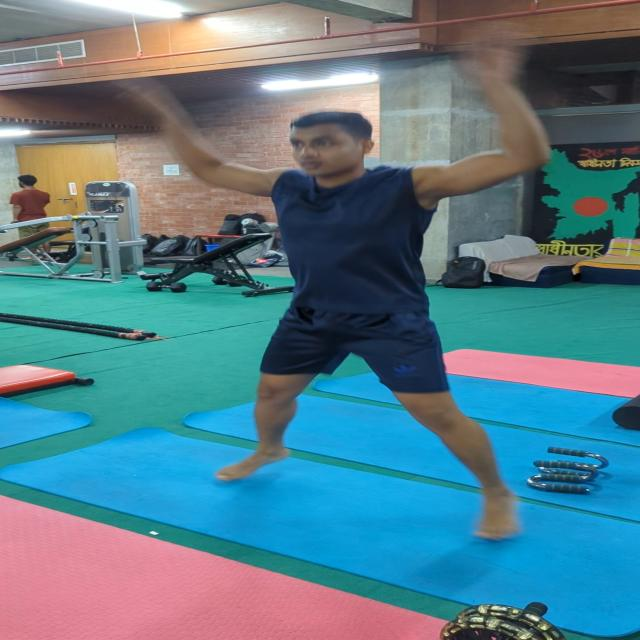Normal_JumpingJacks: (100, 38, 640, 555)
